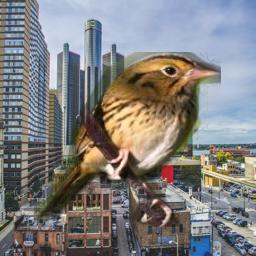Sparrow: (34, 52, 221, 227)
